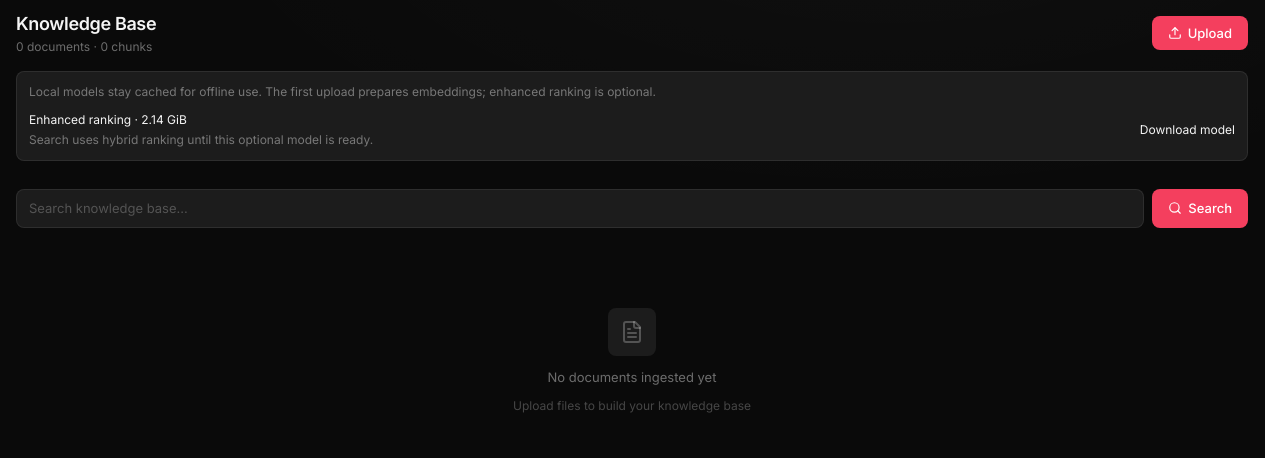
Test: Knowledge model preparation › shows model errors from search instead of presenting an empty result
Type "Knowledge" into the field with placeholder "Search knowledge base..." at (580,208), box [16,189,1144,228]
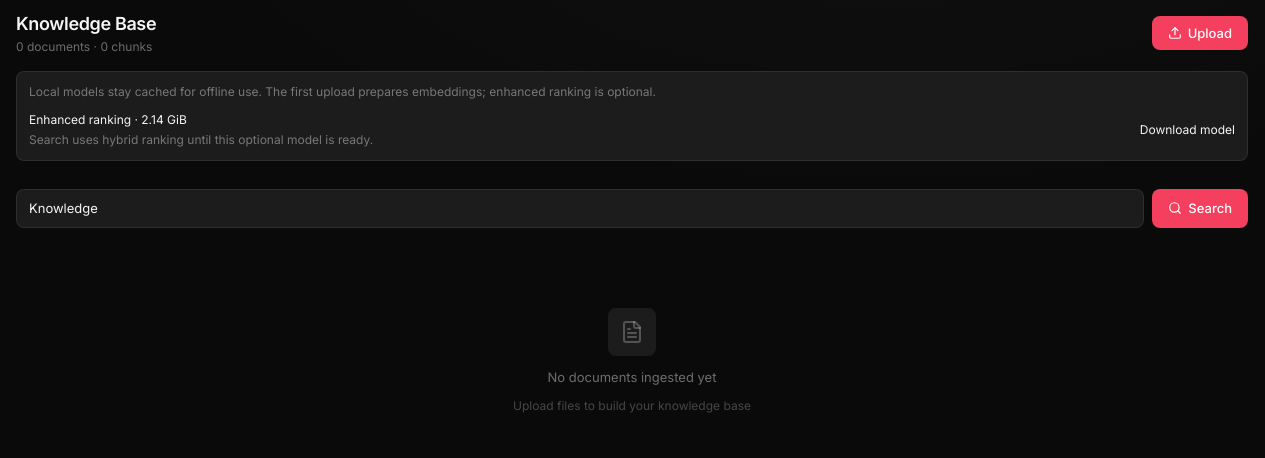
Click the button "Search" at (1200,208), box [1152,189,1248,228]
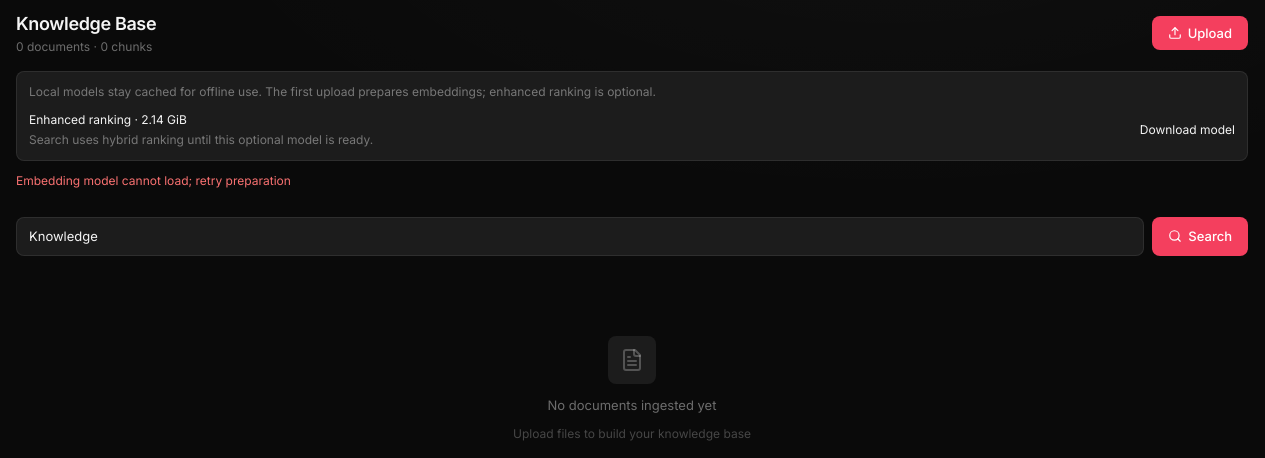
Expected: the message "Embedding model cannot load; retry preparation" is shown, [16,173,291,188]
